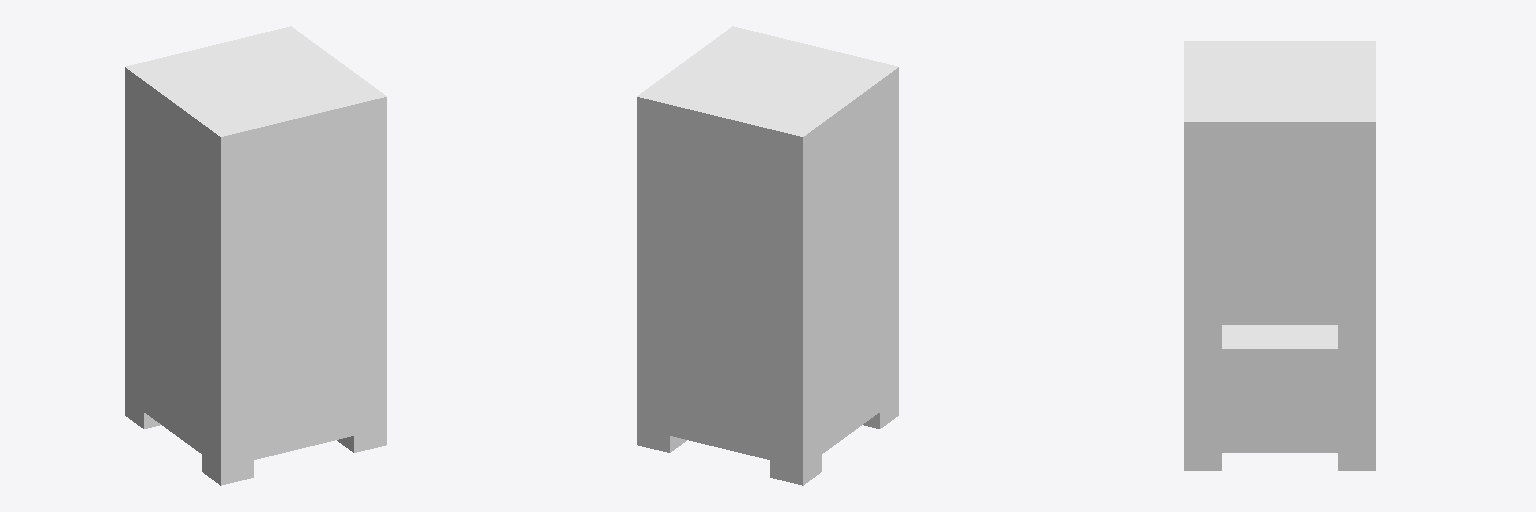
File: Soda_machine.obj
3 renders of one model, left to right at view 1: azimuth 30°, elevation 25°; view 2: azimuth 150°, elevation 25°; view 3: azimuth 270°, elevation 25°, orthographic.
Parts seen in each view (by area): view 1: Soda_machine; view 2: Soda_machine; view 3: Soda_machine.
Boxes of the visible parts, box(x1,y1,x2,y2) form: Soda_machine: box(125, 26, 386, 485); Soda_machine: box(637, 26, 898, 485); Soda_machine: box(1184, 41, 1375, 470).
Size of the model in its own units: 10 by 20 by 10.